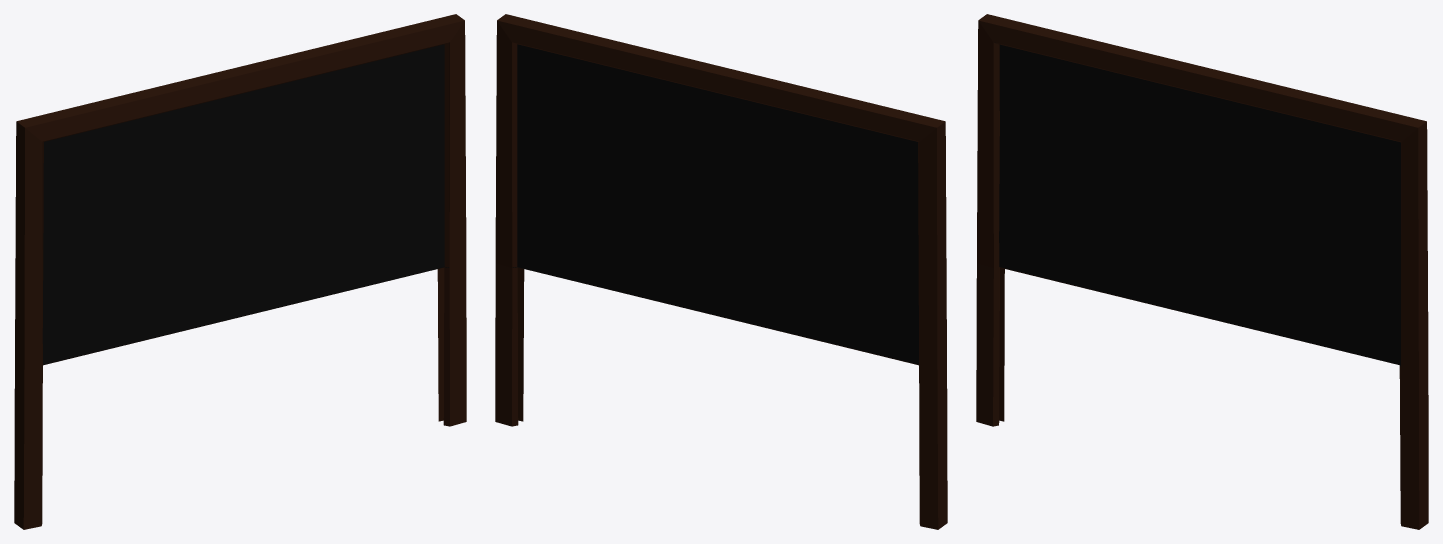
The model's file is Heist Board 2.FBX.
3 renders of one model, left to right at view 1: azimuth 30°, elevation 25°; view 2: azimuth 150°, elevation 25°; view 3: azimuth 330°, elevation 25°, orthographic.
Parts seen in each view (by area): view 1: Heist Board; view 2: Heist Board; view 3: Heist Board.
Boxes of the visible parts, x1=… form: Heist Board: x1=14, y1=14, x2=466, y2=529; Heist Board: x1=495, y1=14, x2=947, y2=529; Heist Board: x1=976, y1=14, x2=1428, y2=529.
Size of the model in its own units: 2.27 by 1.97 by 0.0973.
